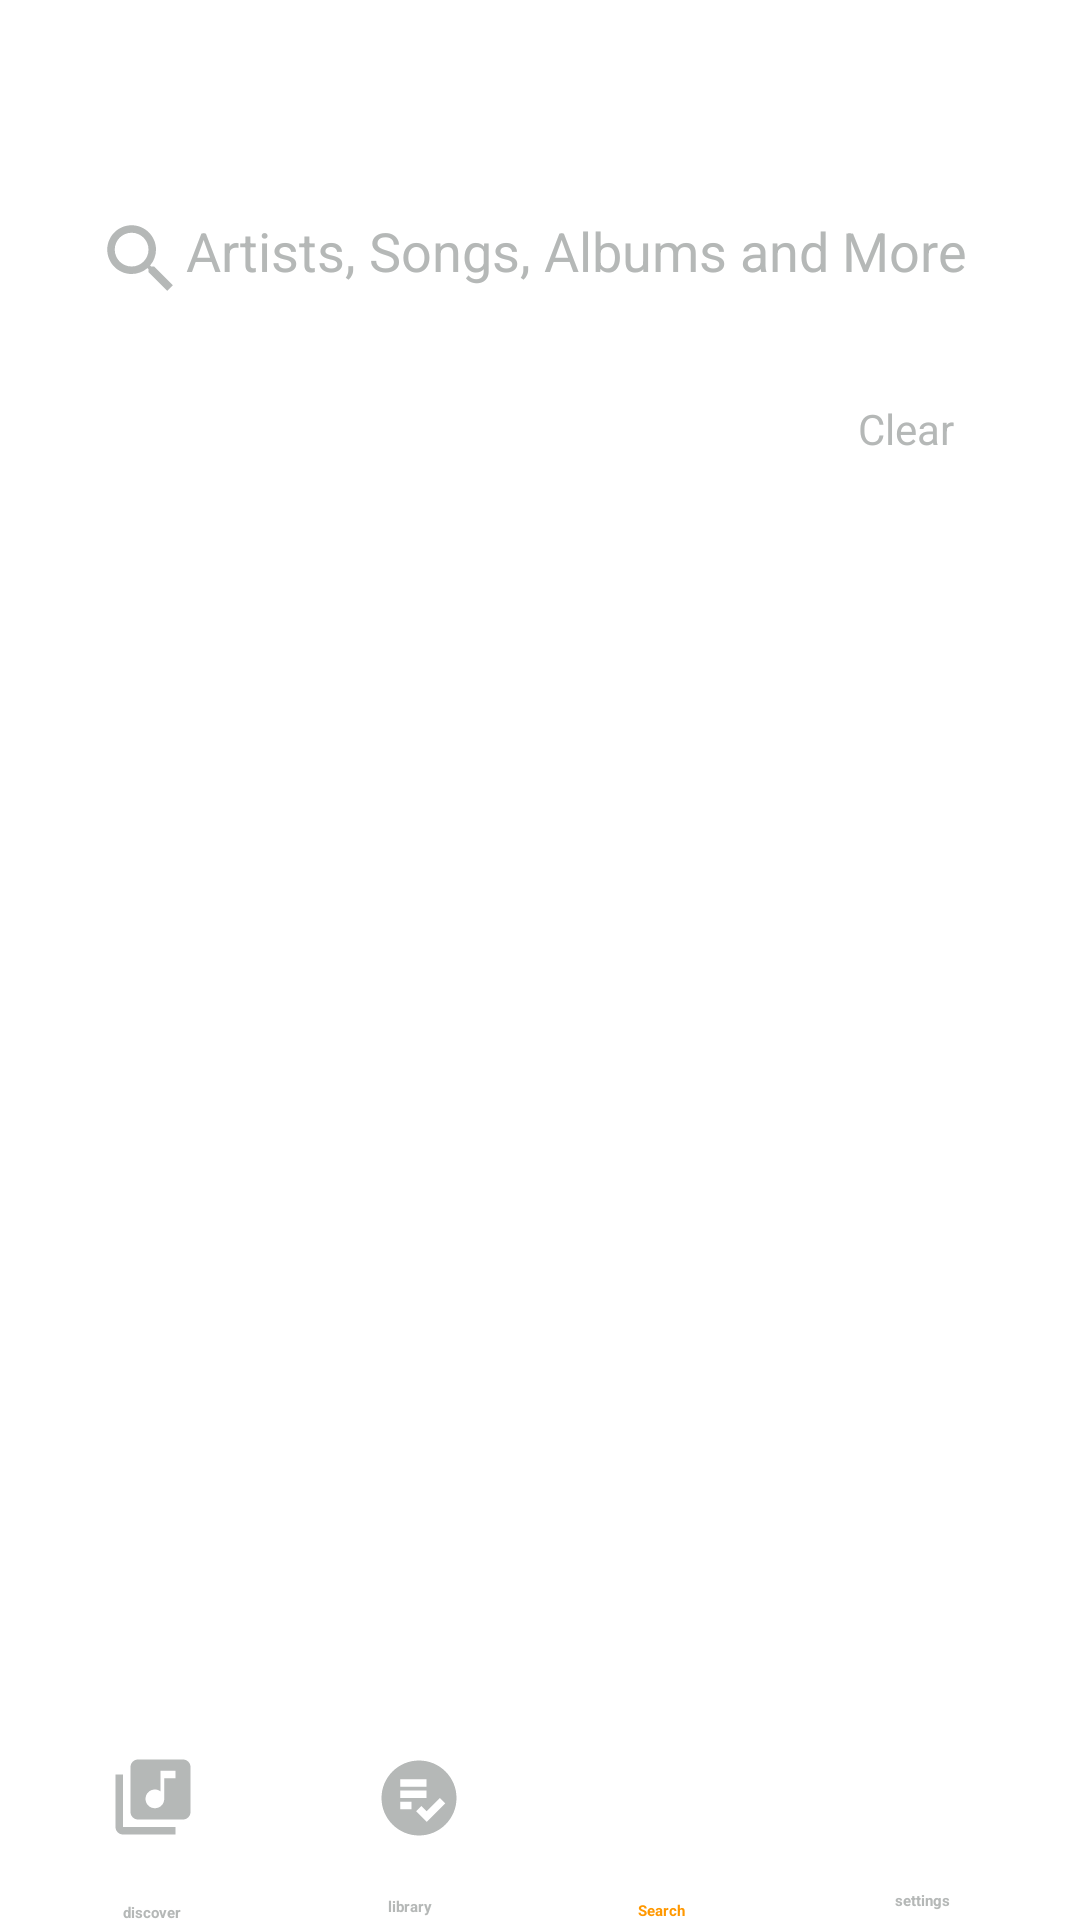

Screen size 1080 x 1920. Icon name, then its center in pixels as (x,y):
playlist: (419,1798)
